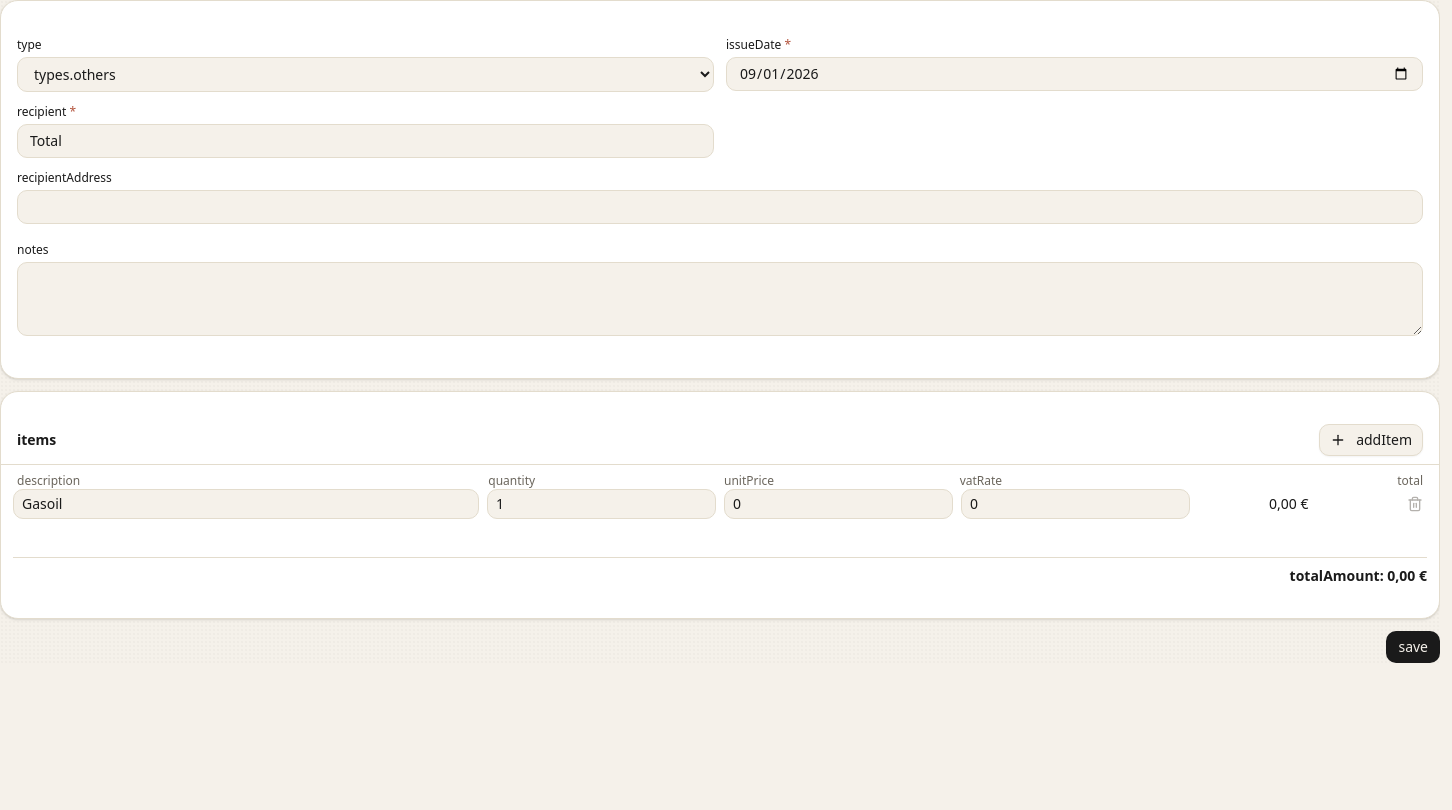
Test: InvoiceForm — decimal line figures › refuses figure 1 = 1,85912 with errorUnitPriceInvalid
This screenshot has width=1452, height=810.
Replace the text in the field named "unitPrice" with "1,85912": (838, 504) x1=724 y1=489 x2=953 y2=519
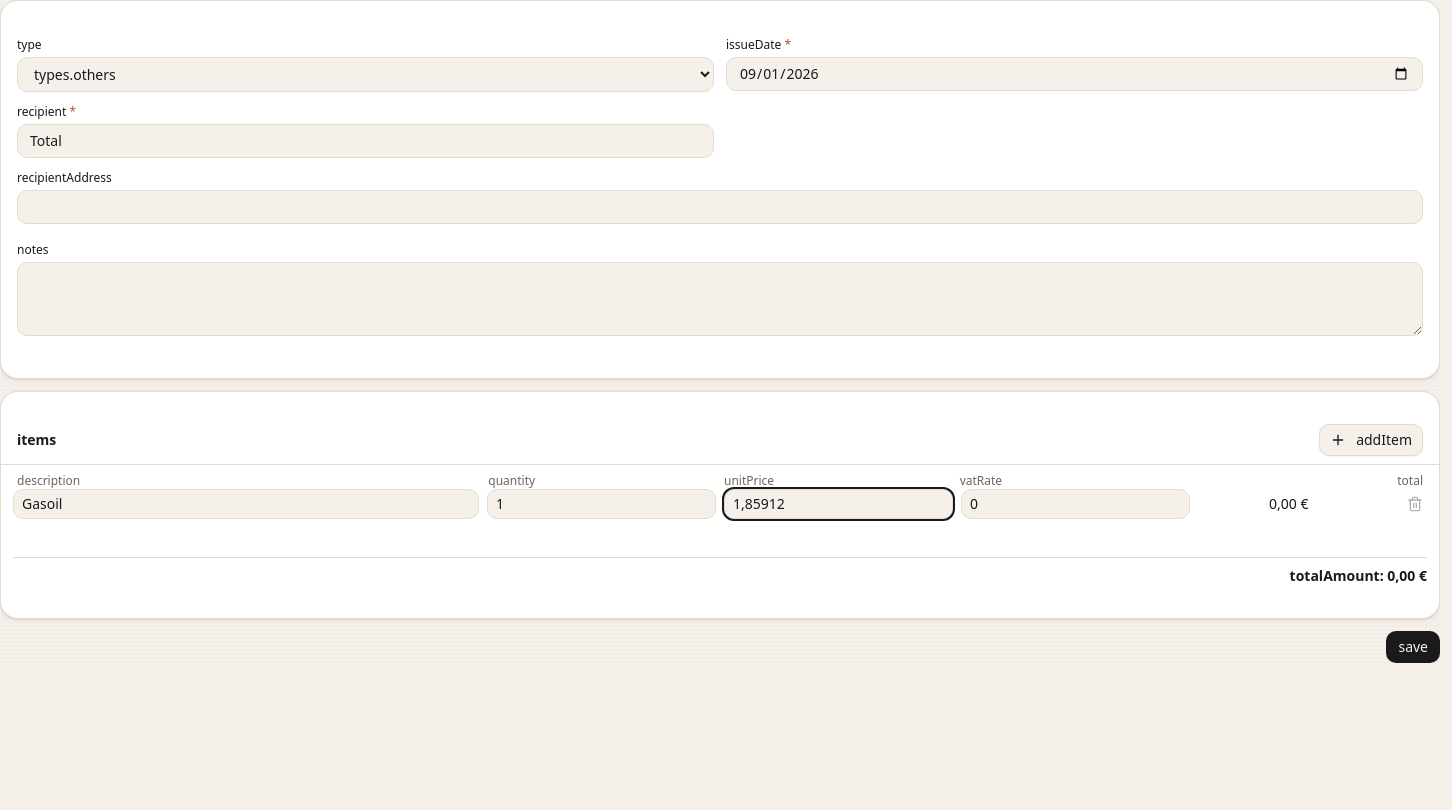
Submit the form
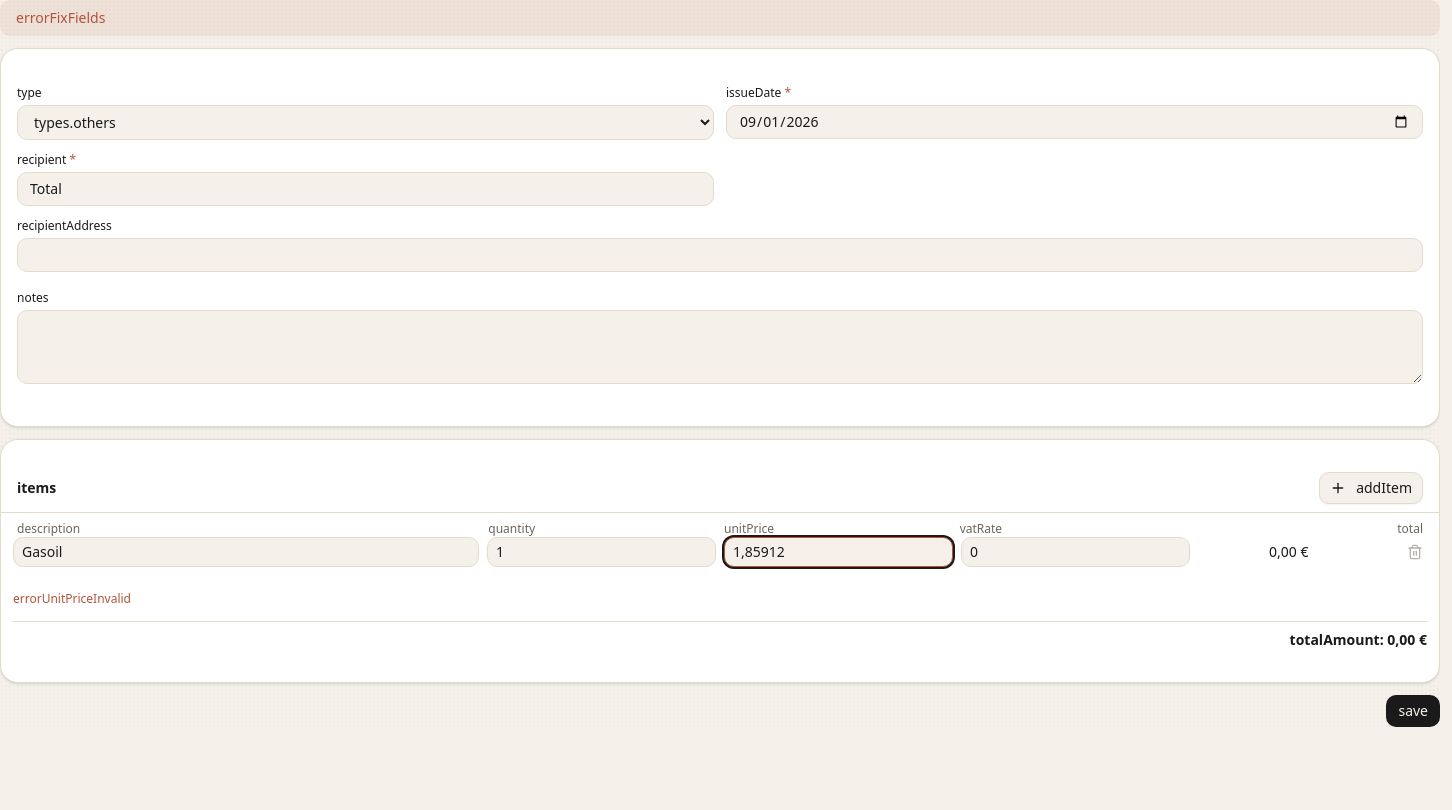
Expected: the text "errorUnitPriceInvalid" is shown, x1=13 y1=590 x2=131 y2=607
